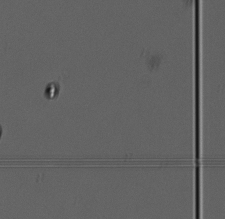Living Cell: (41, 81, 62, 100)
